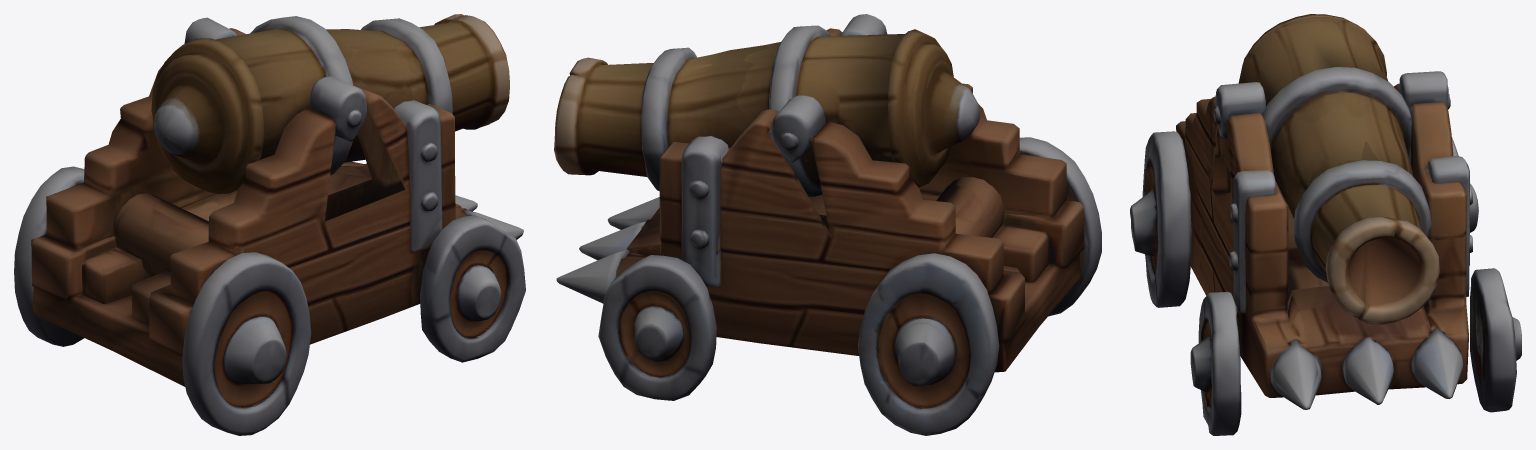
File: cannon.glb
The picture shows the model from 3 angles, left to right: view 1: azimuth 30°, elevation 25°; view 2: azimuth 150°, elevation 25°; view 3: azimuth 270°, elevation 25°; orthographic projection. The views are drawn at different scales.
Visible parts, largest first — view 1: tripo_node_f2355fd6-652d-41cb-b2e4-55234482f746; view 2: tripo_node_f2355fd6-652d-41cb-b2e4-55234482f746; view 3: tripo_node_f2355fd6-652d-41cb-b2e4-55234482f746.
Part boxes in pixels (left/top/right/bottom): tripo_node_f2355fd6-652d-41cb-b2e4-55234482f746: left=14, top=14, right=525, bottom=435; tripo_node_f2355fd6-652d-41cb-b2e4-55234482f746: left=554, top=14, right=1101, bottom=435; tripo_node_f2355fd6-652d-41cb-b2e4-55234482f746: left=1130, top=14, right=1521, bottom=435.
Size of the model in its own units: 0.998 by 0.6973 by 0.7832.
Materials: 1 (1 with a texture image).
